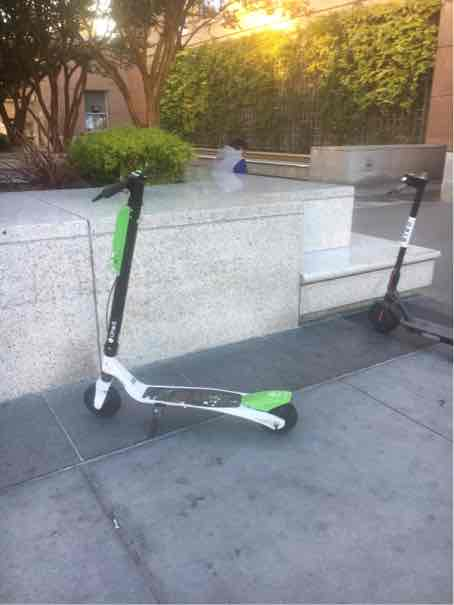scooter: (81, 148, 306, 433)
